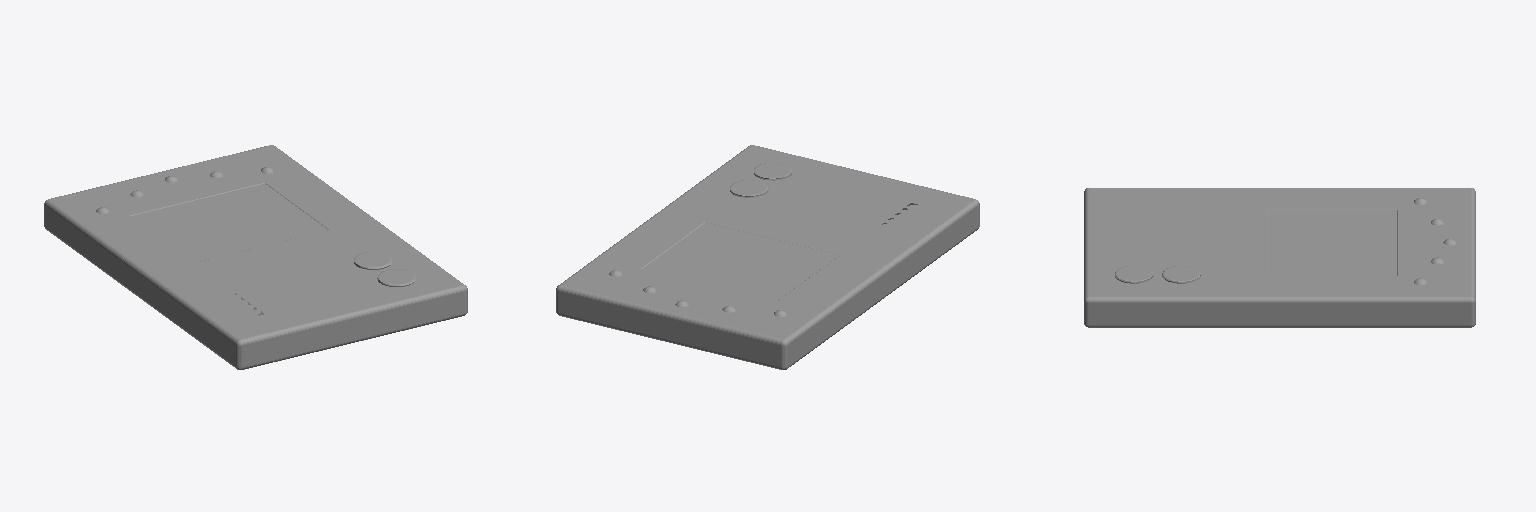
Rendered from beaconModel03.obj.
3 renders of one model, left to right at view 1: azimuth 30°, elevation 25°; view 2: azimuth 150°, elevation 25°; view 3: azimuth 270°, elevation 25°, orthographic.
Parts seen in each view (by area): view 1: Button_Bottom_Cylinder.001; view 2: Button_Bottom_Cylinder.001; view 3: Button_Bottom_Cylinder.001.
Part boxes in pixels (x1,y1,x2,y2): Button_Bottom_Cylinder.001: (44,145,467,369); Button_Bottom_Cylinder.001: (556,145,979,369); Button_Bottom_Cylinder.001: (1084,188,1475,327).
Bounding box in the file's own units: 1.36 × 0.191 × 2.